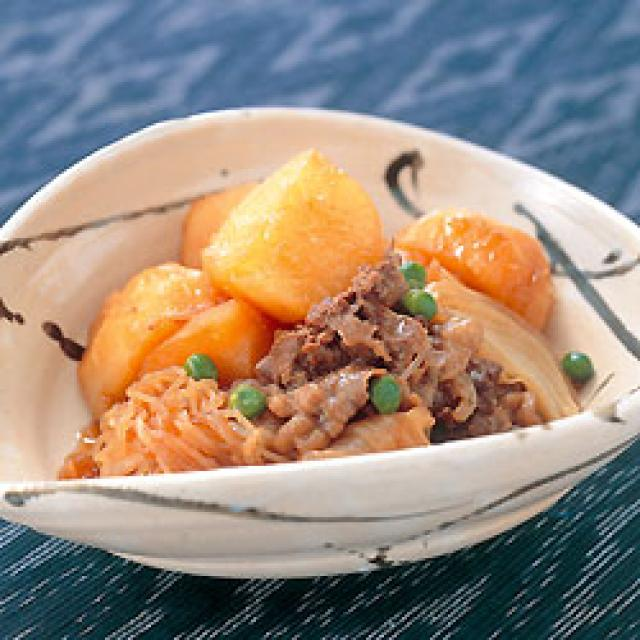牛肉菜式: (0, 92, 640, 576)
